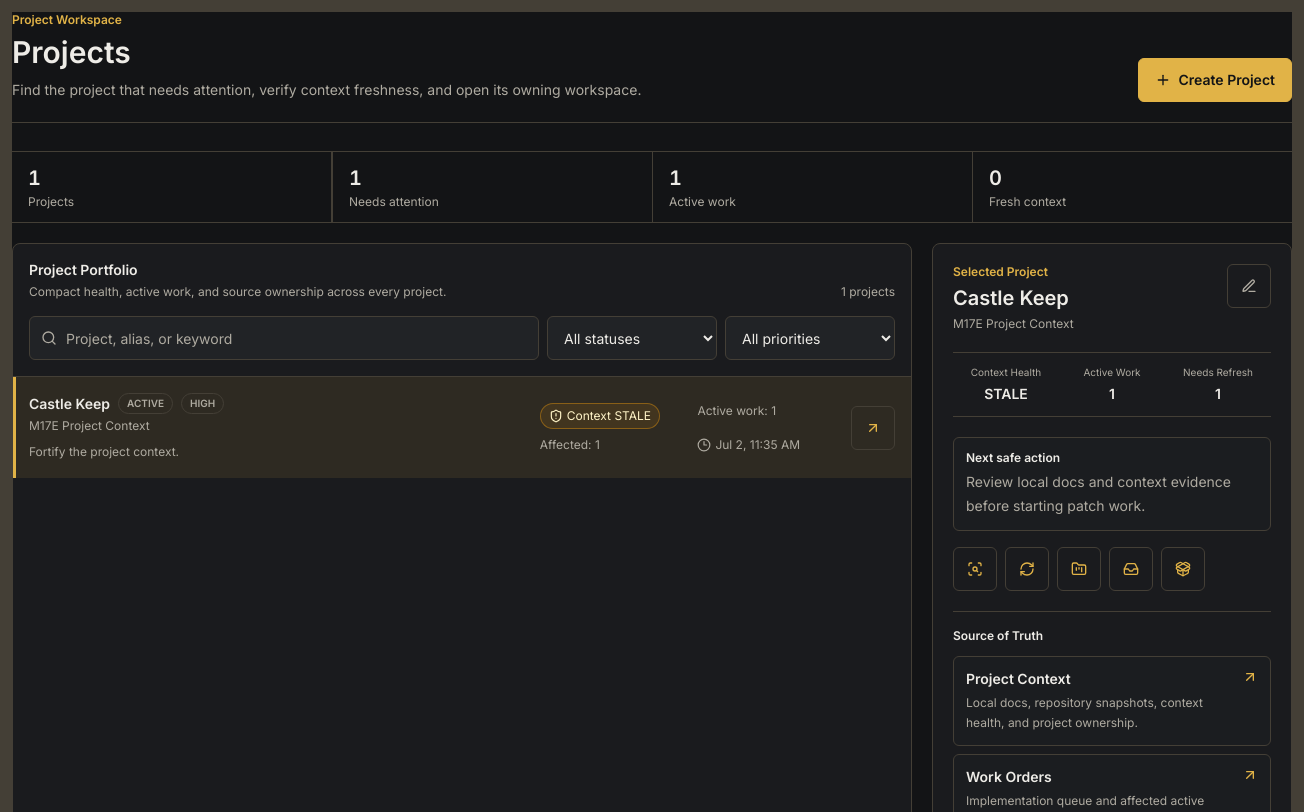
it: ProjectsPage › shows shortcut icons and runs a local docs scan from the selected project
Click the button named "Run Local Docs Scan".
click(975, 569)  # box [953,547,997,591]
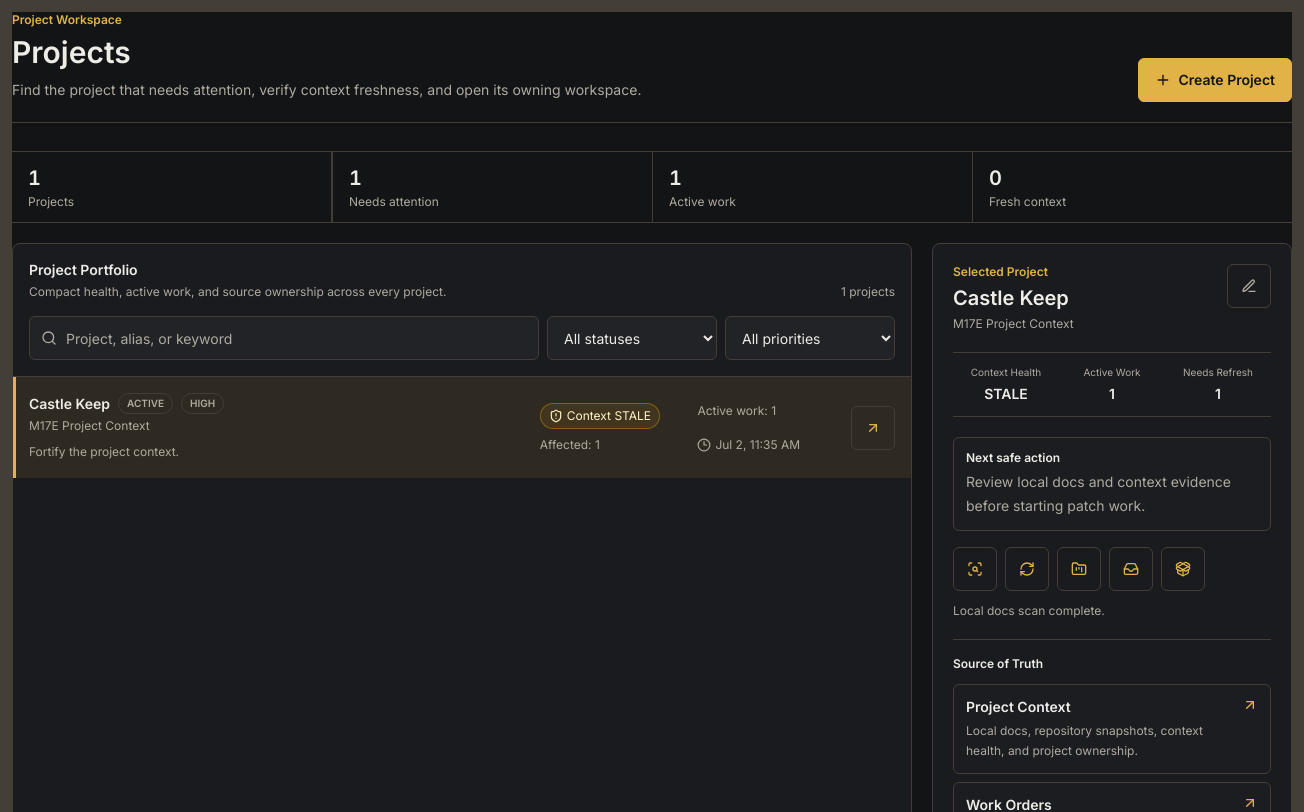
Result: the text "Local docs scan complete." is shown at [953,603,1105,618]
